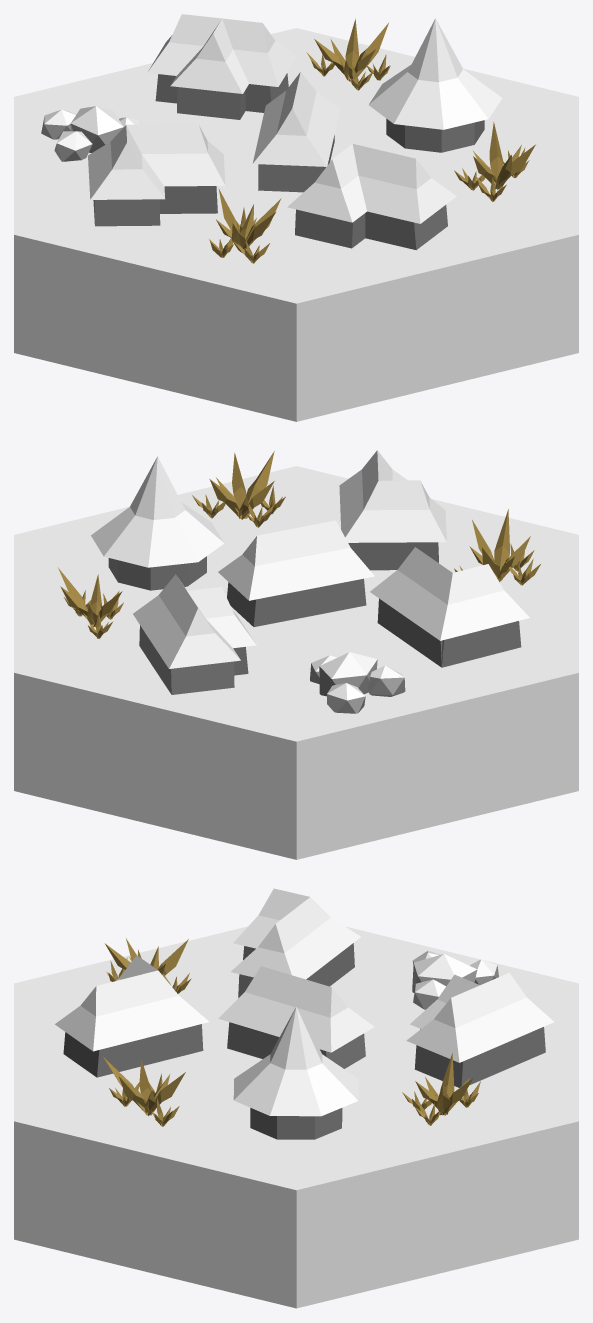
File: Casas_Nieve_02.fbx
The picture shows the model from 3 angles, top to bottom: view 1: azimuth 30°, elevation 25°; view 2: azimuth 150°, elevation 25°; view 3: azimuth 270°, elevation 25°; orthographic projection.
Visible parts, largest first — view 1: Casas_Nieve_02; view 2: Casas_Nieve_02; view 3: Casas_Nieve_02.
Boxes of the visible parts, box(x1,y1,x2,y2) form: Casas_Nieve_02: box(14, 14, 578, 421); Casas_Nieve_02: box(14, 450, 578, 859); Casas_Nieve_02: box(14, 888, 578, 1308).
Size of the model in its own units: 200 by 78.5 by 173.
